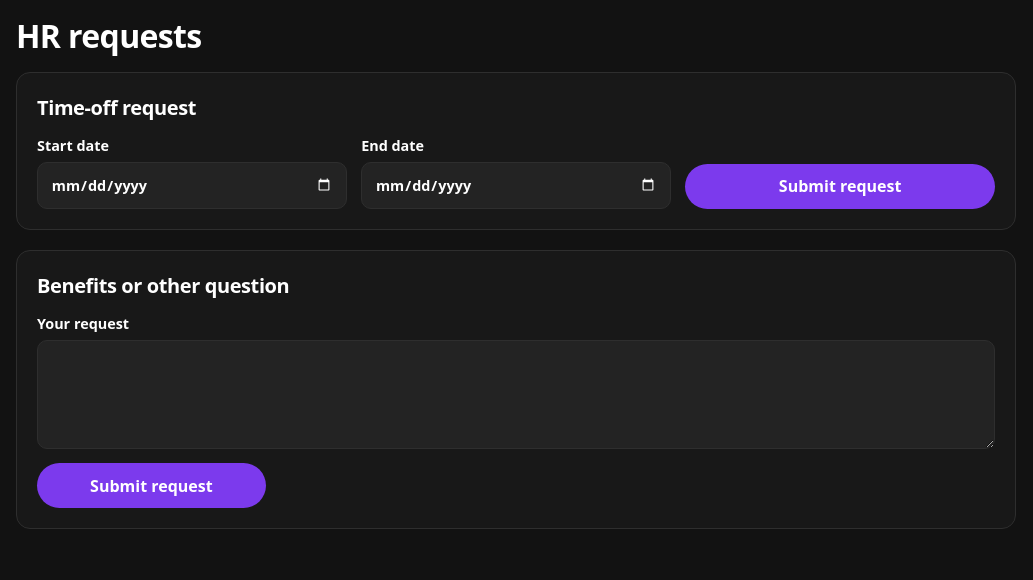
it: HrRequestsPage › does not submit when the dates are out of order
The image size is (1033, 580).
Step 1. Type "2025-05-10" into the date field with test id "timeoff-start" → (192,185), box top-left (37, 162), bottom-right (347, 209)
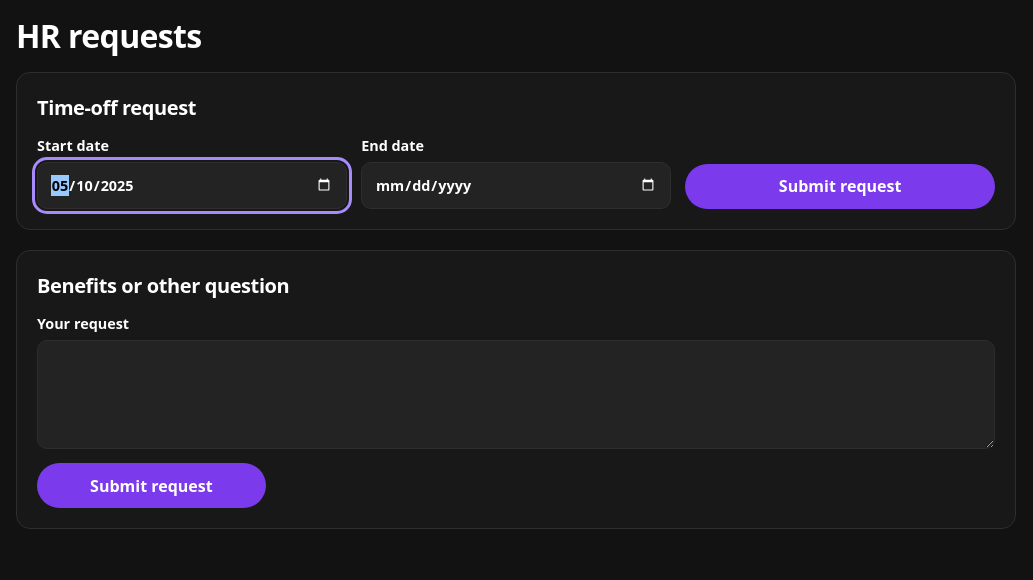
Step 2. Type "2025-05-01" into the date field with test id "timeoff-end" → (516,185), box top-left (361, 162), bottom-right (671, 209)
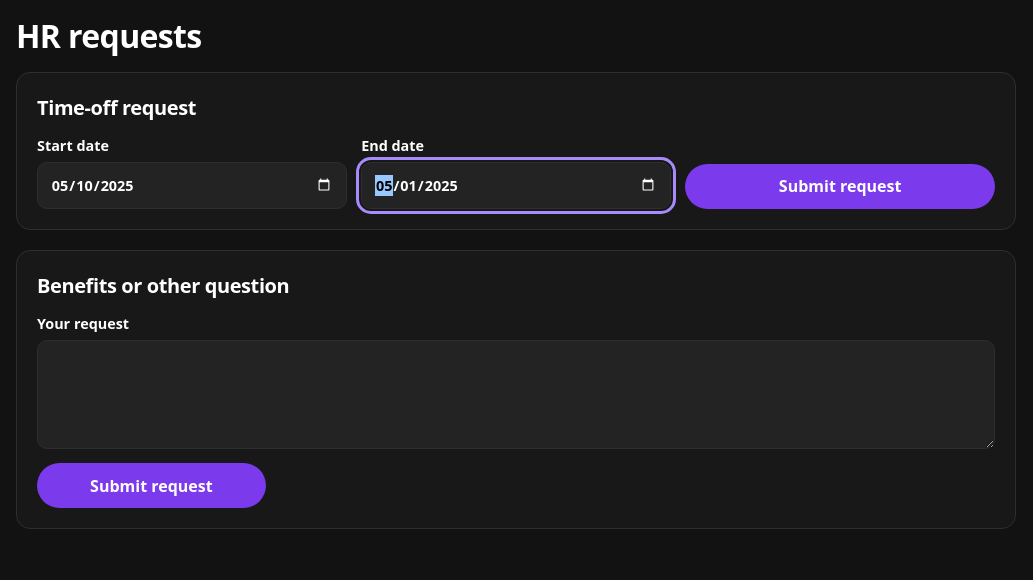
Step 3. Click the button with test id "timeoff-submit" → (840,186), box top-left (685, 164), bottom-right (995, 209)
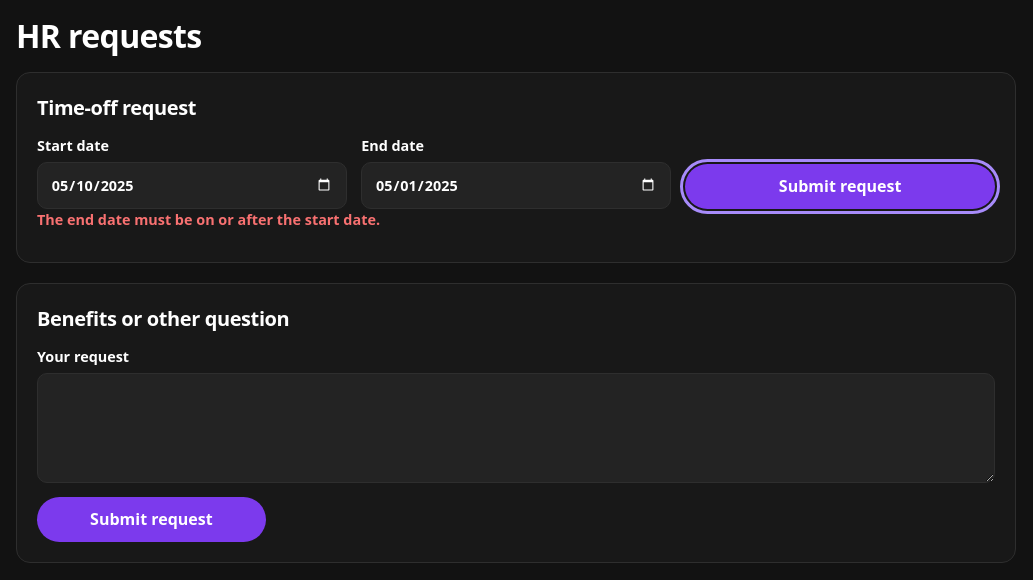
Expected: the message "The end date must be on or after the start date." is shown, top-left (37, 210), bottom-right (380, 229)
